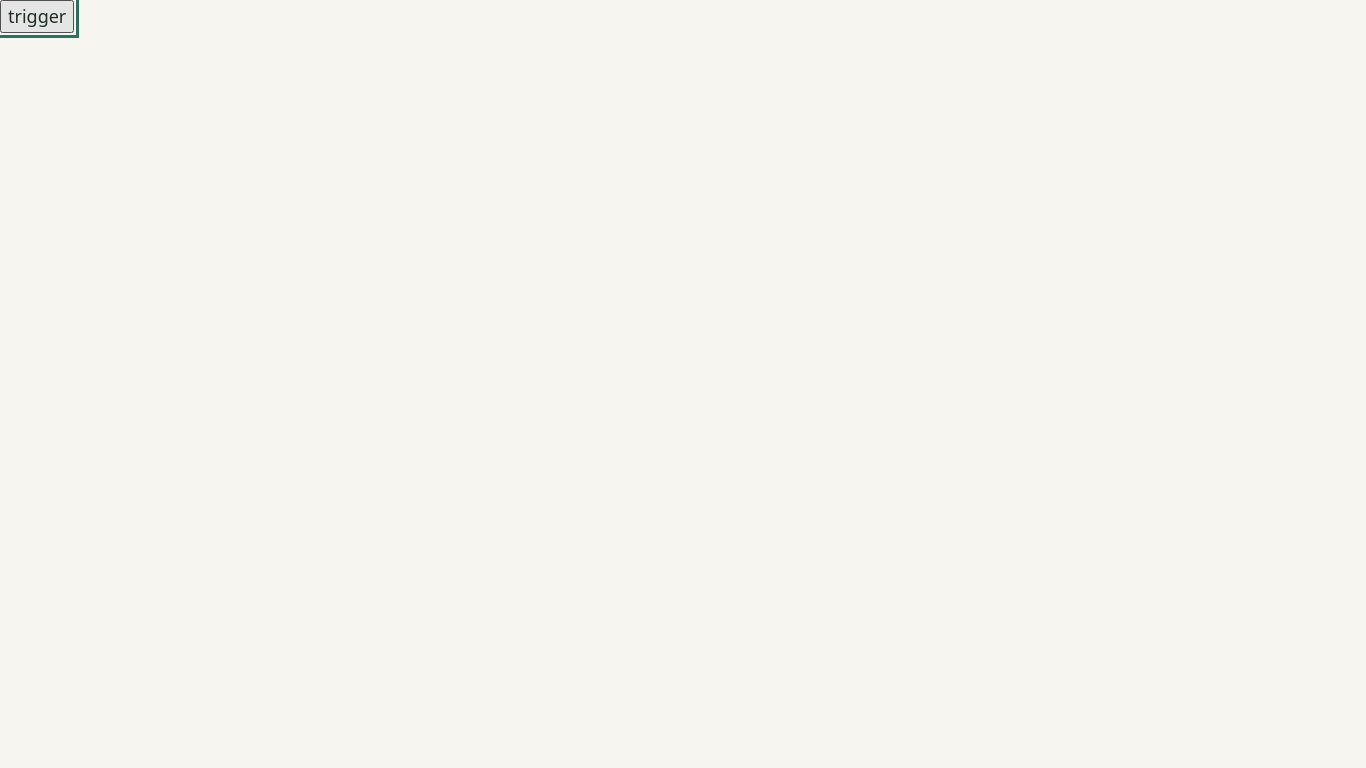
Scenario: Dialog › açılınca role="dialog" ve aria-modal ile çizilir
Click the button "trigger" at point(37, 16), box x1=0 y1=0 x2=74 y2=33
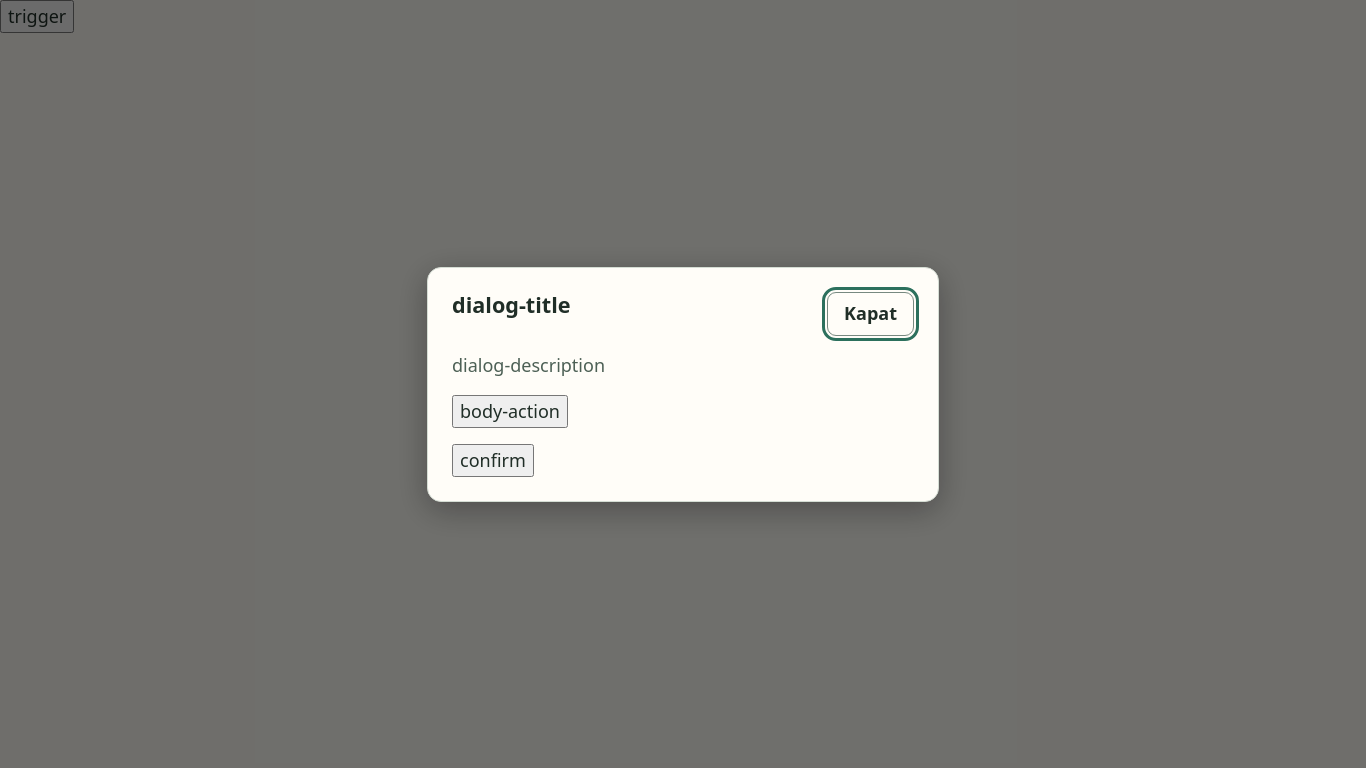
expect the button "body-action" is shown: met, box x1=452 y1=394 x2=568 y2=428
